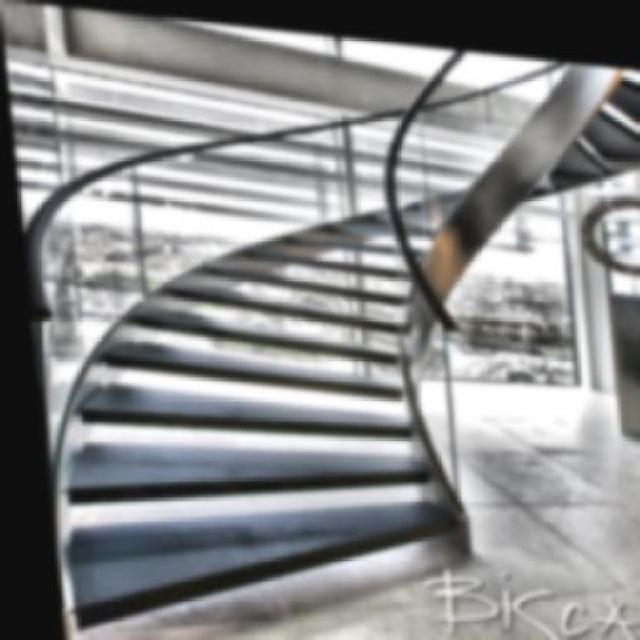stair: (9, 117, 474, 563)
